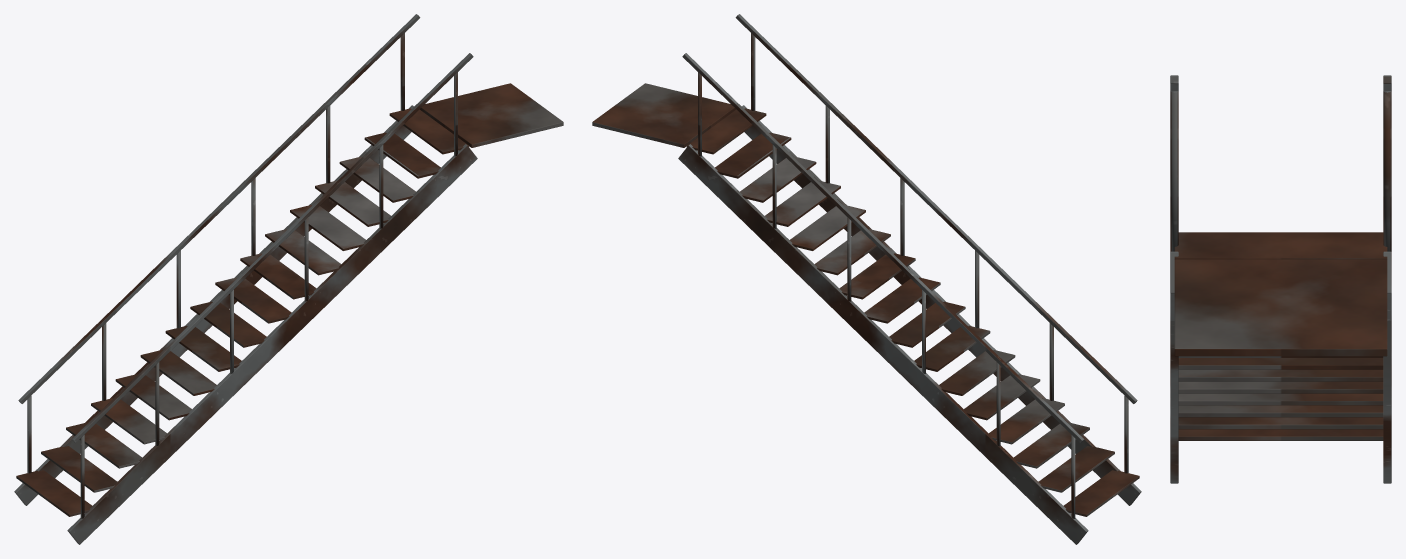
The model's file is F28_metal_staircase.glb.
3 views of the same model, side by side, from view 1: azimuth 30°, elevation 25°; view 2: azimuth 150°, elevation 25°; view 3: azimuth 270°, elevation 25° (orthographic). The views are drawn at different scales.
Visible parts, largest first — view 1: F28_metal_staircase; view 2: F28_metal_staircase; view 3: F28_metal_staircase.
Boxes of the visible parts, x1,y1,x2,y2 form: F28_metal_staircase: [14, 14, 563, 544]; F28_metal_staircase: [592, 14, 1141, 544]; F28_metal_staircase: [1170, 75, 1391, 483].
Bounding box in the file's own units: 3 × 2.29 × 0.5804.
2 materials, 2 textured.
